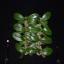leaf: (12, 32, 26, 42), (26, 14, 40, 24), (13, 24, 26, 33), (26, 33, 38, 42), (39, 37, 52, 45), (28, 32, 38, 42), (14, 14, 26, 22), (40, 47, 52, 55), (41, 28, 53, 36), (28, 23, 40, 31), (40, 12, 51, 20), (15, 44, 25, 52), (26, 48, 38, 54), (27, 42, 37, 49), (30, 27, 41, 33), (20, 50, 27, 59), (40, 21, 49, 28), (18, 18, 26, 23), (20, 35, 26, 41), (40, 52, 46, 58), (28, 51, 34, 56), (36, 16, 40, 23)
